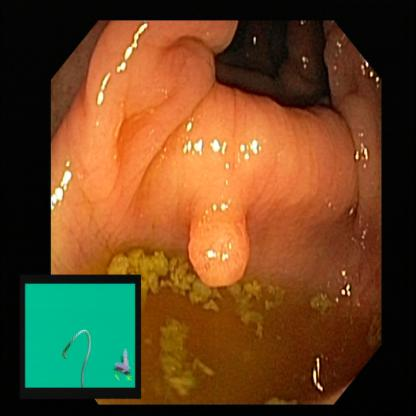Labels: (17, 272, 140, 397)
Polyps: (78, 29, 230, 116), (172, 181, 252, 284)
